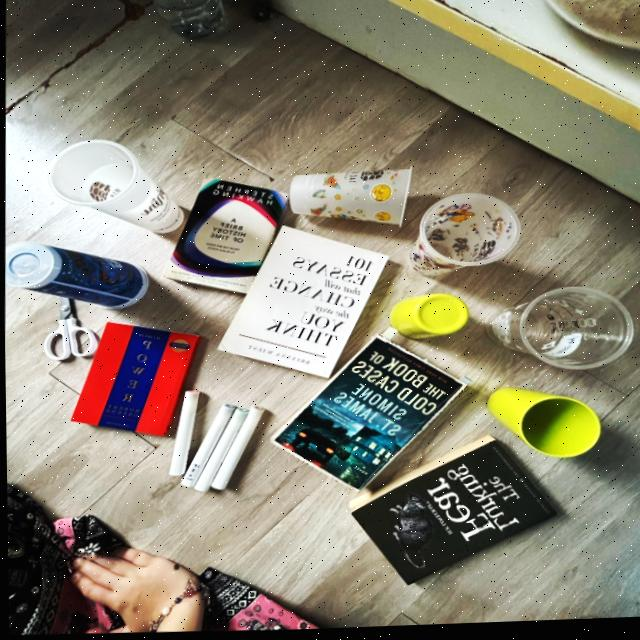Book: (349, 440, 554, 587), (272, 338, 465, 492), (217, 226, 386, 379), (70, 323, 199, 436), (164, 181, 285, 294)
HighLight Pen: (209, 408, 262, 491), (193, 409, 245, 492), (179, 406, 232, 487), (167, 392, 198, 476)
Plastic Cup: (47, 140, 183, 234), (488, 291, 631, 373), (4, 242, 147, 309), (409, 197, 518, 278), (289, 172, 410, 228)
Scissors: (43, 298, 98, 361)
WaterGlass: (486, 392, 598, 461), (389, 297, 467, 341)
